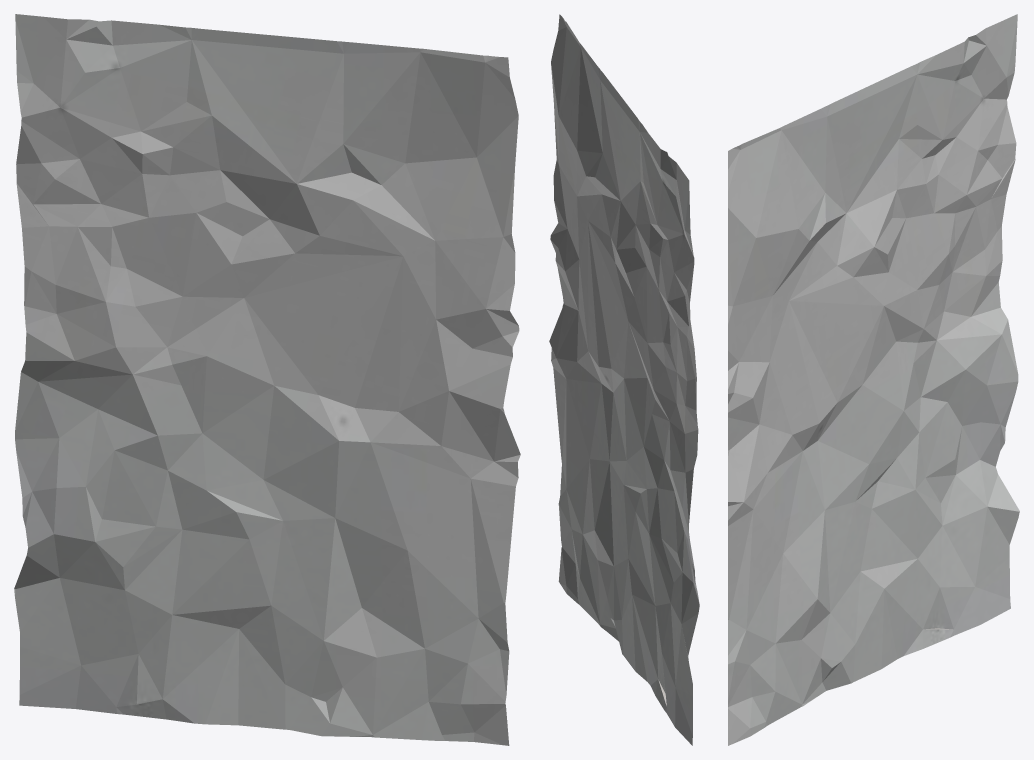
The picture shows the model from 3 angles, left to right: view 1: azimuth 30°, elevation 25°; view 2: azimuth 150°, elevation 25°; view 3: azimuth 270°, elevation 25°; orthographic projection. The views are drawn at different scales.
Bounding box in the file's own units: 0.4296 × 0.8373 × 0.3724.
2 materials, 2 textured.
